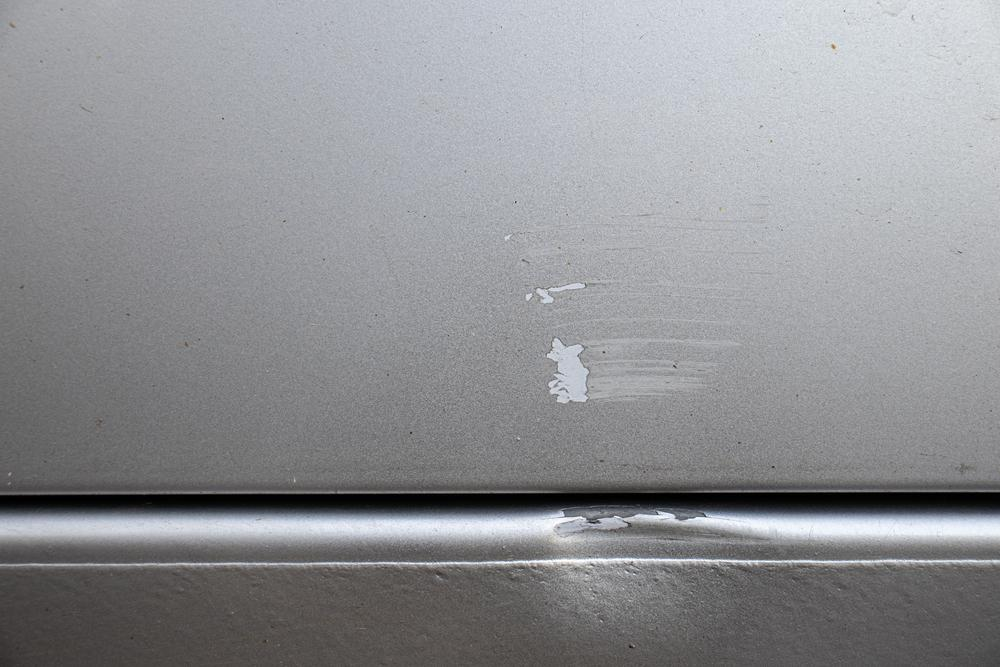dent: (548, 519, 751, 625)
scratch: (505, 201, 773, 408)
